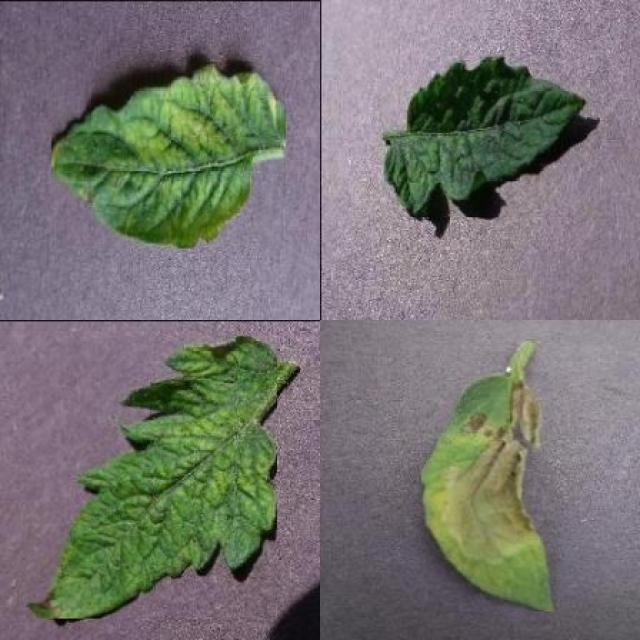Late Blight: (422, 372, 557, 612)
Mosaic Virus: (26, 336, 277, 618), (51, 62, 286, 248), (382, 55, 588, 216)
